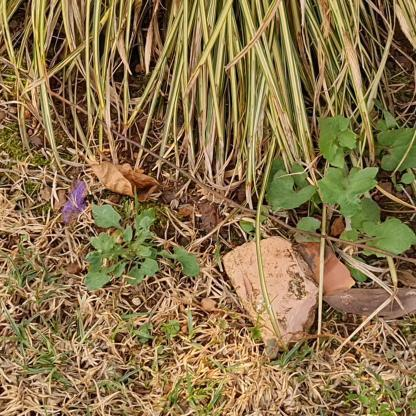Weeds: (262, 114, 415, 279), (84, 204, 199, 293)
